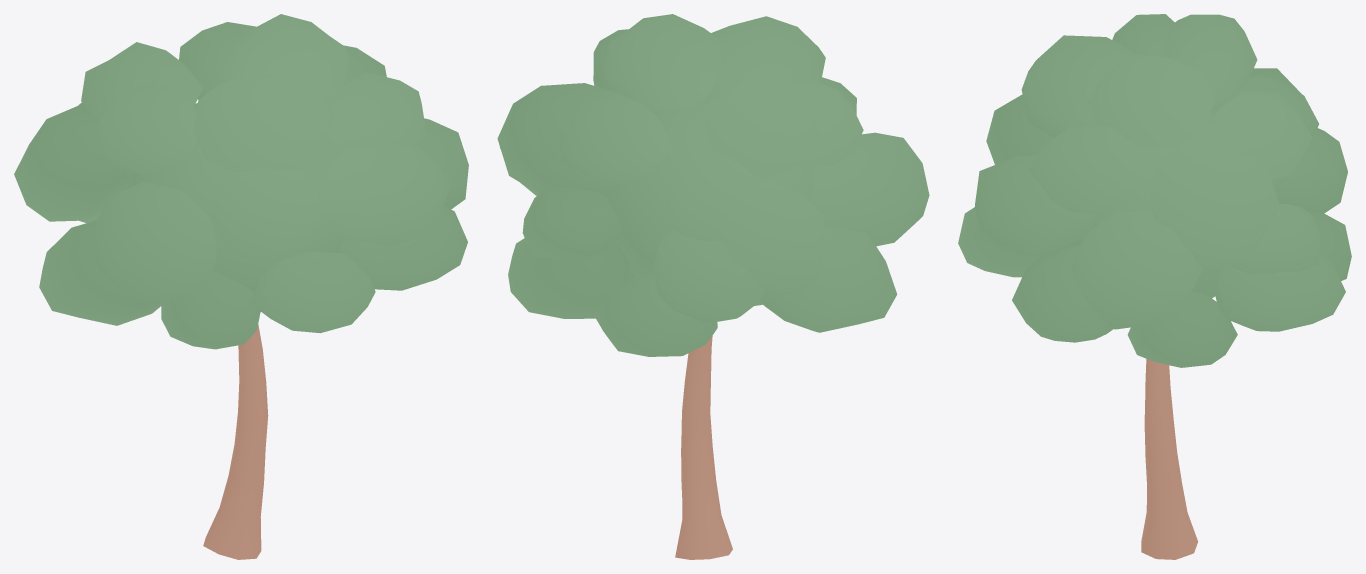
Rendered from Blender_Tanoak_1.glb.
The picture shows the model from 3 angles, left to right: view 1: azimuth 30°, elevation 25°; view 2: azimuth 150°, elevation 25°; view 3: azimuth 270°, elevation 25°; orthographic projection.
Parts seen in each view (by area): view 1: Blender_Tanoak_1; view 2: Blender_Tanoak_1; view 3: Blender_Tanoak_1.
Boxes of the visible parts, box(x1,y1,x2,y2) form: Blender_Tanoak_1: box(14, 14, 468, 559); Blender_Tanoak_1: box(497, 14, 929, 559); Blender_Tanoak_1: box(958, 14, 1351, 559).
Size of the model in its own units: 15.68 by 19.84 by 13.76.
